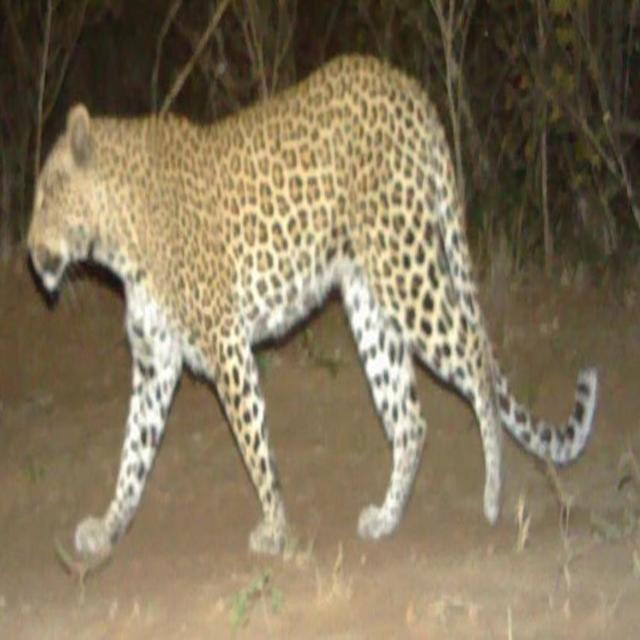Leopard: (26, 61, 602, 584)
